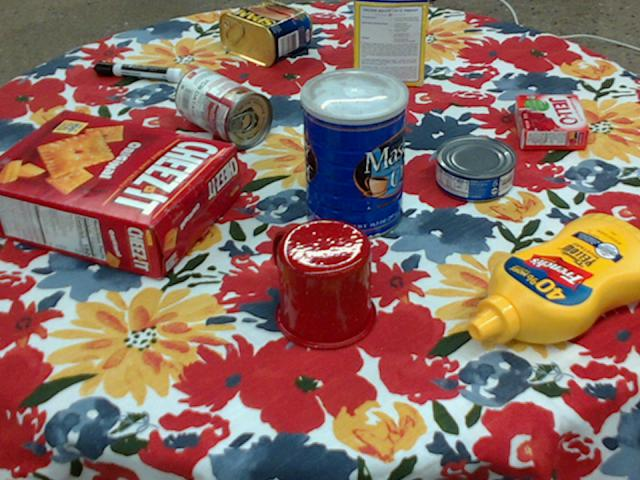cracker_box: (0, 110, 240, 278)
gelatin_box: (513, 95, 587, 150)
large_marker: (95, 61, 184, 81)
master_chef_can: (299, 68, 407, 241)
mug: (272, 218, 376, 350)
mustard_bottle: (469, 210, 639, 341)
potted_meat_can: (219, 0, 312, 65)
sugar_box: (352, 0, 429, 86)
tomato_soup_can: (174, 67, 272, 148)
tuna_fish_can: (436, 135, 517, 202)
